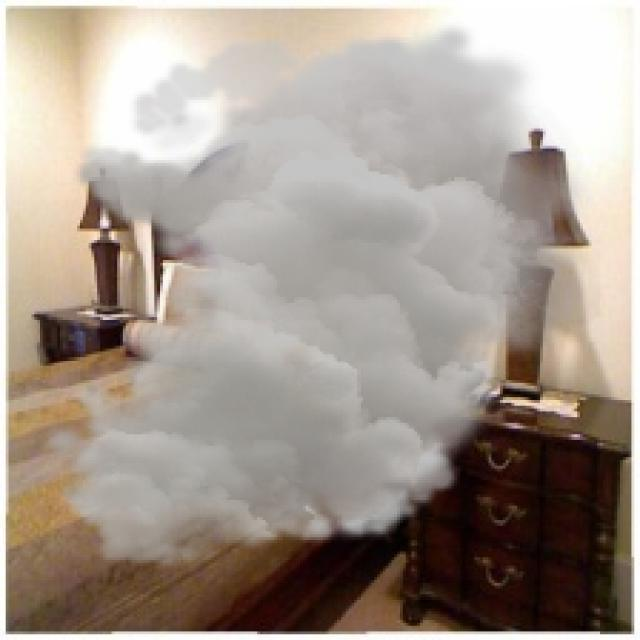Smoke: (37, 19, 606, 572)
